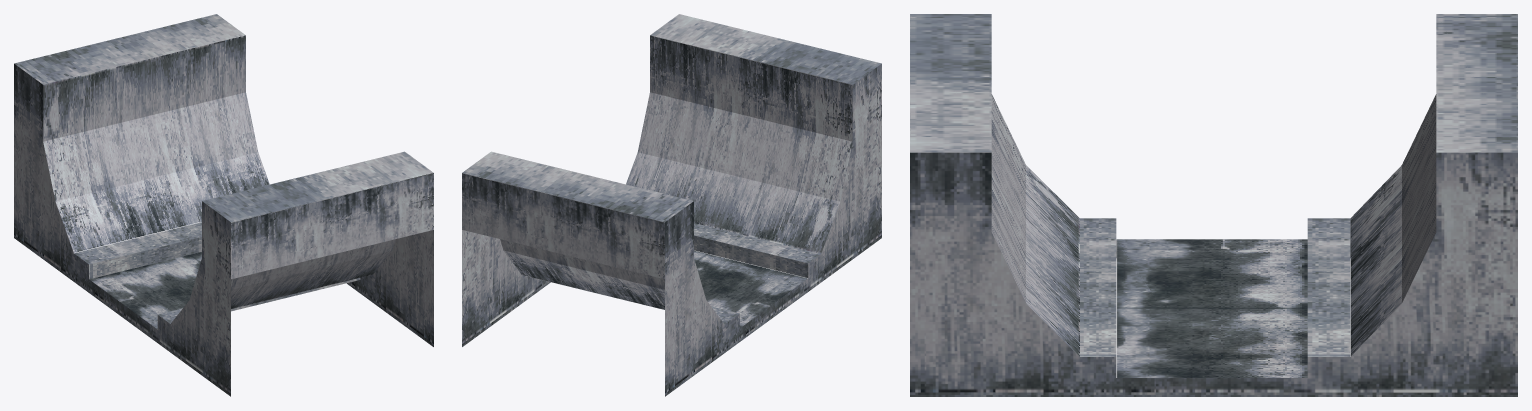
Rendered from StormDrainCanal1.fbx.
The picture shows the model from 3 angles, left to right: view 1: azimuth 30°, elevation 25°; view 2: azimuth 150°, elevation 25°; view 3: azimuth 270°, elevation 25°; orthographic projection. The views are drawn at different scales.
Parts seen in each view (by area): view 1: Canal1.002; view 2: Canal1.002; view 3: Canal1.002.
Part boxes in pixels (x1,y1,x2,y2): Canal1.002: (14, 14, 433, 396); Canal1.002: (462, 14, 881, 396); Canal1.002: (910, 14, 1517, 396).
Size of the model in its own units: 541 by 445 by 1002.
